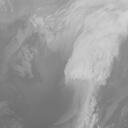cyclone: (63, 8, 116, 123)
